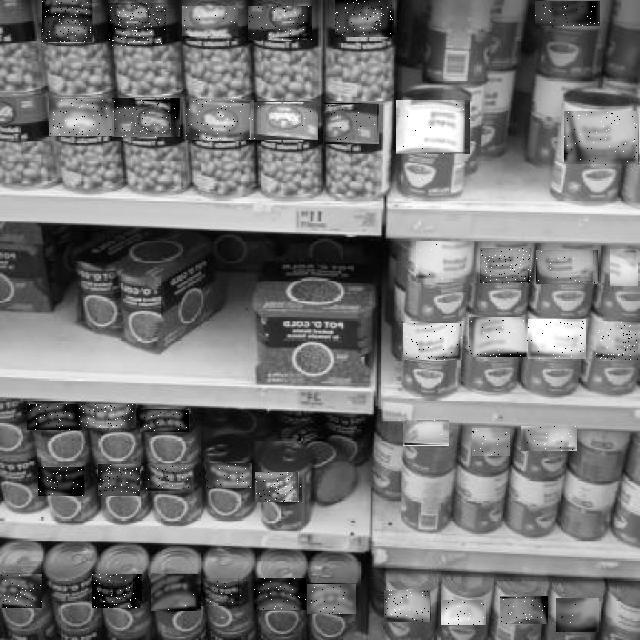Beans: (396, 100, 470, 154), (565, 112, 639, 166), (186, 100, 254, 140), (112, 98, 180, 137), (250, 102, 318, 140), (108, 3, 166, 46), (49, 99, 114, 136), (469, 317, 529, 357), (417, 242, 475, 282), (528, 319, 586, 359), (323, 104, 379, 144), (403, 323, 462, 360), (248, 6, 312, 40), (336, 0, 394, 37), (537, 250, 599, 284), (42, 0, 92, 42), (480, 248, 531, 283), (152, 574, 200, 611), (536, 2, 602, 28), (92, 574, 142, 608), (182, 6, 238, 36), (254, 578, 306, 610), (596, 322, 638, 360), (385, 590, 431, 622), (307, 584, 356, 614), (556, 599, 599, 633), (28, 405, 84, 431), (0, 574, 42, 608), (521, 426, 577, 451), (146, 464, 194, 493), (256, 472, 302, 502), (500, 596, 548, 624), (98, 464, 140, 496), (39, 467, 85, 496), (82, 404, 136, 428), (403, 420, 449, 446), (442, 600, 488, 625), (206, 463, 252, 488), (202, 579, 242, 607), (140, 410, 189, 432), (472, 429, 510, 457), (611, 249, 639, 286)
